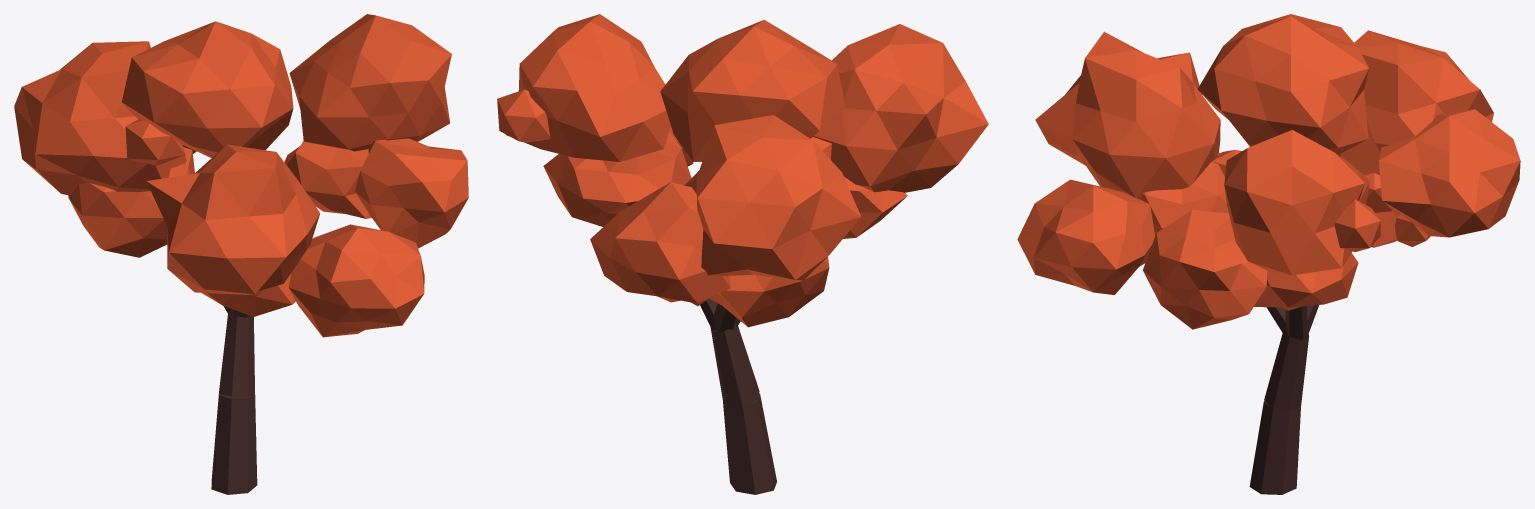
Rendered from tree_maple_1.glb.
3 views of the same model, side by side, from view 1: azimuth 30°, elevation 25°; view 2: azimuth 150°, elevation 25°; view 3: azimuth 270°, elevation 25° (orthographic).
Parts seen in each view (by area): view 1: tree_maple_1; view 2: tree_maple_1; view 3: tree_maple_1.
Part boxes in pixels (<box>): tree_maple_1: <box>14,14,468,494</box>; tree_maple_1: <box>497,14,988,494</box>; tree_maple_1: <box>1017,14,1520,494</box>.
Size of the model in its own units: 5.88 by 7 by 6.87.
